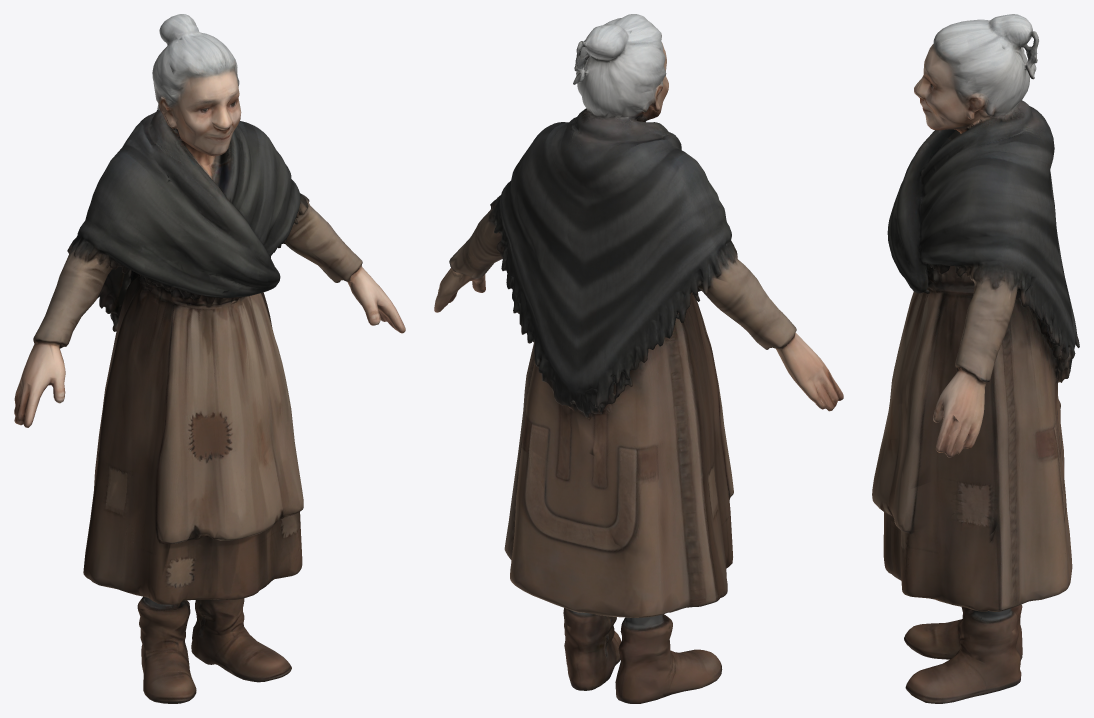
Rendered from old_woman_patron.glb.
3 views of the same model, side by side, from view 1: azimuth 30°, elevation 25°; view 2: azimuth 150°, elevation 25°; view 3: azimuth 270°, elevation 25° (orthographic). The views are drawn at different scales.
Bounding box in the file's own units: 1.26 × 2 × 0.574.
Materials: 1 (1 with a texture image).
